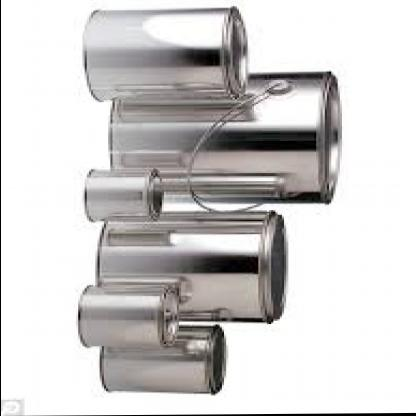Metal: (0, 4, 406, 390)
